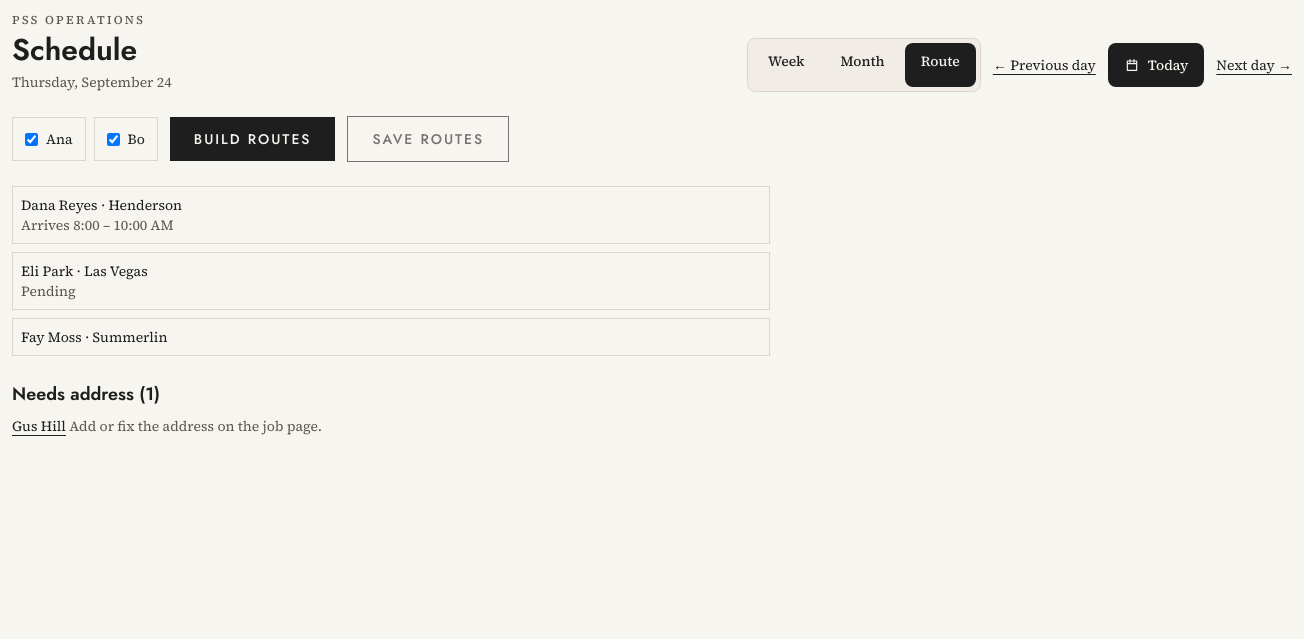
Test case: RouteView before any build › lists an appointment that is both skipped and missing an address only under Needs address
The width and height of the screenshot is (1304, 639).
Click the button "Build routes" at {"x": 253, "y": 139}, box [170,117,335,161]
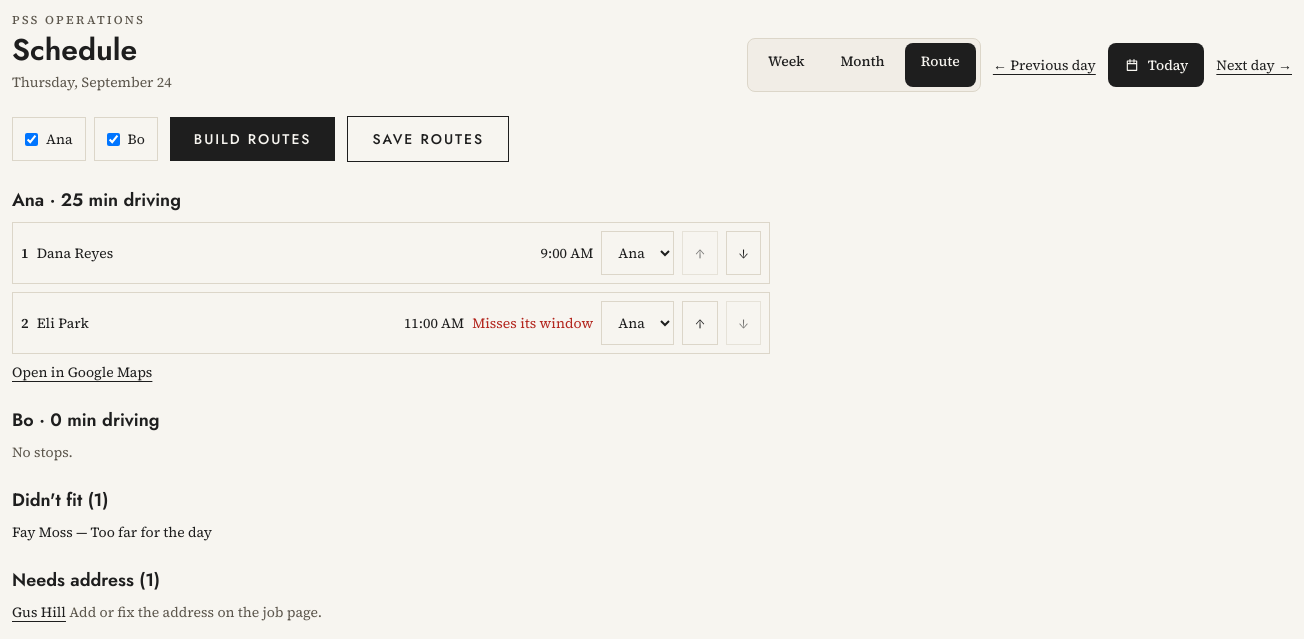
Check: the link "Gus Hill" is shown, box [12,602,66,622]
Check: the element "Ana · 25 min driving" is shown, box [12,186,770,382]
